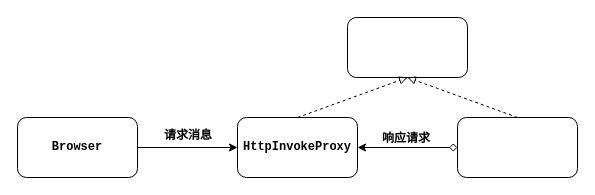
This 595x195 diagram has some shape labels left out. The centre of each missing label's shape, as x and y in pixels:
"IHttpInvoke" belongs at pixel 407 47.
"Server" belongs at pixel 517 147.
